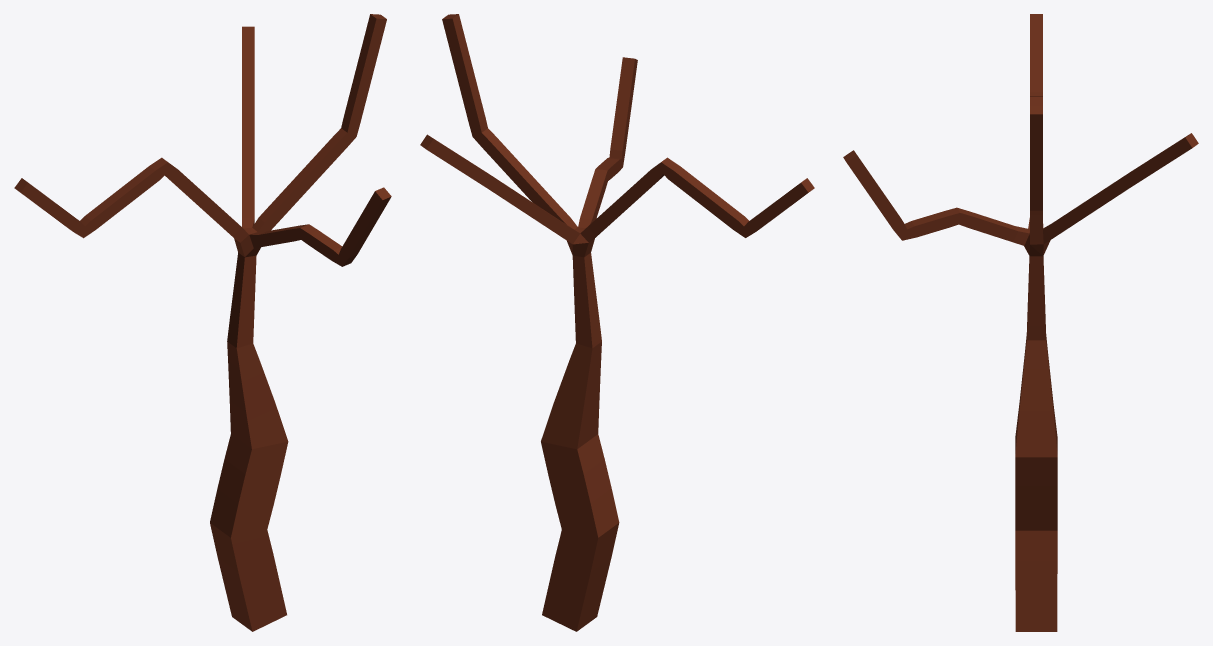
Rendered from Arbusto_OFF.fbx.
3 renders of one model, left to right at view 1: azimuth 30°, elevation 25°; view 2: azimuth 150°, elevation 25°; view 3: azimuth 270°, elevation 25°, orthographic.
Parts seen in each view (by area): view 1: Arbol_P; view 2: Arbol_P; view 3: Arbol_P.
Part boxes in pixels (x1,y1,x2,y2): Arbol_P: (14, 14, 391, 631); Arbol_P: (420, 14, 814, 631); Arbol_P: (843, 14, 1198, 631).
Bounding box in the file's own units: 515 × 773 × 428.
